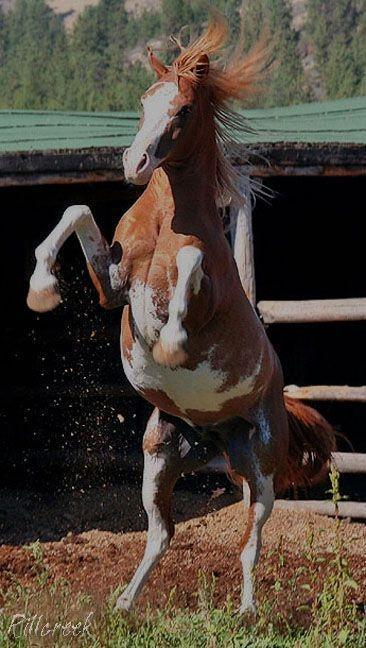horse: (25, 6, 341, 619)
